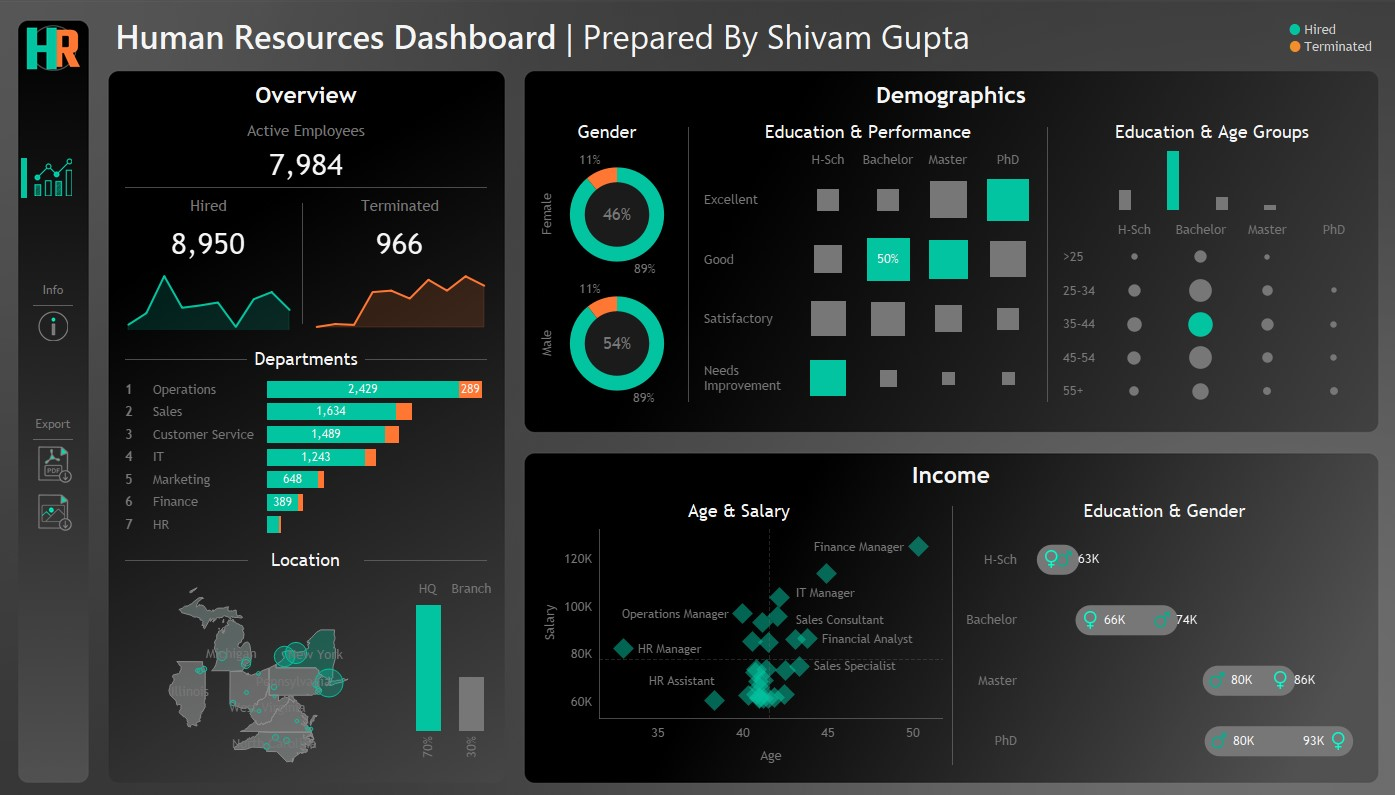

This screenshot's page, from the dashboard's own definition file:
{"tool":"tableau","page":{"name":"HR | Summary","canvas":[1400,800],"ordinal":0},"visuals":[{"type":"image","param":"Image/background dashbaord summary.png","box":[0,0,1400,800]},{"type":"blank","box":[90,0,1309,240]},{"type":"text","box":[110,0,1025,70]},{"type":"blank","box":[1135,0,245,70]},{"type":"filter","title":"Gender vs Education Level","param":"[federated.1uy6vyf0tya8w3119f4041qdymfc].[none:Gender:nk]","box":[750,9,142,51]},{"type":"filter","title":"Gender vs Education Level","param":"[federated.1uy6vyf0tya8w3119f4041qdymfc].[none:Calculation_2981664453132697602:n","box":[892,9,142,51]},{"type":"filter","title":"Gender vs Education Level","param":"[federated.1uy6vyf0tya8w3119f4041qdymfc].[none:Calculation_3363625995846344715:n","box":[1034,9,142,51]},{"type":"filter","title":"Gender vs Education Level","param":"[federated.1uy6vyf0tya8w3119f4041qdymfc].[yr:Hiredate:ok]","box":[1176,9,142,51]},{"type":"text","box":[1288,10,114,59]},{"type":"image","param":"Image/Logo.png","box":[20,20,70,55]},{"type":"text","box":[117,77,382,35]},{"type":"text","box":[533,77,840,35]},{"type":"blank","box":[30,85,50,73.3]},{"type":"text","box":[117,112,382,32]},{"type":"text","box":[533,117,152,29]},{"type":"blank","box":[690,117,1,295]},{"type":"text","box":[696,117,348,29]},{"type":"blank","box":[1049,117,1,295]},{"type":"text","box":[1055,117,318,29]},{"type":"worksheet","title":"BAN Active","mark":"Text","box":[117,144,382,43]},{"type":"worksheet","title":"Gender","mark":"Pie","rows":["Gender"],"cols":["Calculation_3363625995853570061","Calculation_3363625995853570061"],"box":[533,146,152,266]},{"type":"worksheet","title":"Education vs Performance","mark":"Square","rows":["Performance Rating"],"cols":["Education Level"],"box":[696,146,348,266]},{"type":"worksheet","title":"Education Levels","mark":"Bar","rows":["Calculation_3363625995831468034"],"cols":["Education Level"],"box":[1055,146,318,70]},{"type":"blank","box":[23,158,6,40]},{"type":"dashboard-object","box":[30,158.3,50,38]},{"type":"blank","box":[117,187,382,1]},{"type":"text","box":[117,193,187,26]},{"type":"blank","box":[304,193,1,141]},{"type":"text","box":[305,193,193.9,26]},{"type":"blank","box":[30,196.3,50,10]},{"type":"blank","box":[30,206.3,50,73.3]},{"type":"worksheet","title":"Age vs Education","mark":"Circle","rows":["Calculation_3363625995862552598"],"cols":["Education Level"],"box":[1055,216,318,196]},{"type":"worksheet","title":"BAN Hired","mark":"Text","box":[117,219,187,49]},{"type":"worksheet","title":"BAN Terminated","mark":"Text","box":[305,219,193.9,49]},{"type":"text","box":[90,240,1309,320]},{"type":"worksheet","title":"Hired By Year","mark":"Line","rows":["Calculation_3363625995831468034","Calculation_3363625995831468034"],"cols":["Hiredate"],"box":[117,268,187,66]},{"type":"worksheet","title":"Terminated By Year","mark":"Line","rows":["Calculation_3363625995832086533","Calculation_3363625995832086533"],"cols":["Termdate"],"box":[305,268,193.9,66]},{"type":"text","box":[30,279.7,50,20]},{"type":"blank","box":[30,299.7,50,11]},{"type":"dashboard-object","box":[30,310.7,50,30]},{"type":"blank","box":[30,340.7,50,73.3]},{"type":"blank","box":[127,344,122,30]},{"type":"text","box":[249,344,118,30]},{"type":"blank","box":[367,344,122,30]},{"type":"worksheet","title":"Departments","mark":"Bar","rows":["Calculation_3363625995844042762","Department"],"cols":["Calculation_3363625995831468034"],"box":[117,374,382,166]},{"type":"text","box":[30,414,50,20]},{"type":"blank","box":[30,434,50,11]},{"type":"dashboard-object","box":[30,445,50,38]},{"type":"text","box":[533,459,840,32]},{"type":"blank","box":[30,483,50,10]},{"type":"dashboard-object","box":[30,493,50,38]},{"type":"text","box":[533,496,416.5,29]},{"type":"blank","box":[954.5,496,1,279]},{"type":"text","box":[960.5,496,412.5,29]},{"type":"worksheet","title":"Age vs Salary","mark":"Shape","rows":["Salary"],"cols":["Calculation_3363625995860541454"],"box":[533,525,416.5,250]},{"type":"worksheet","title":"Gender vs Education Level","mark":"Square","rows":["Education Level"],"cols":["Salary","Salary"],"box":[960.5,525,412.5,250]},{"type":"blank","box":[30,531,50,60]},{"type":"blank","box":[127,545,123.3,30]},{"type":"text","box":[250.3,545,115.3,30]},{"type":"blank","box":[365.6,545,123.3,30]},{"type":"blank","box":[90,560,1309,240]},{"type":"worksheet","title":"Map States","mark":"Automatic","box":[117,575,287,200]},{"type":"worksheet","title":"Location","mark":"Bar","rows":["Calculation_3363625995831468034"],"cols":["Calculation_3363625995846344715","Calculation1"],"box":[404,575,95,200]}]}

Visuals, with their boxes in screenshot pixels (x1, y1, x2, y2), scaled from the page's 1400x800 canvas onto the 1395x795 screenshot:
image: pyautogui.locateOnScreen(0, 0, 1394, 794)
blank: pyautogui.locateOnScreen(90, 0, 1394, 238)
text: pyautogui.locateOnScreen(110, 0, 1131, 70)
blank: pyautogui.locateOnScreen(1131, 0, 1375, 70)
"Gender vs Education Level" filter: pyautogui.locateOnScreen(747, 9, 889, 60)
"Gender vs Education Level" filter: pyautogui.locateOnScreen(889, 9, 1030, 60)
"Gender vs Education Level" filter: pyautogui.locateOnScreen(1030, 9, 1172, 60)
"Gender vs Education Level" filter: pyautogui.locateOnScreen(1172, 9, 1313, 60)
text: pyautogui.locateOnScreen(1283, 10, 1394, 69)
image: pyautogui.locateOnScreen(20, 20, 90, 75)
text: pyautogui.locateOnScreen(117, 77, 497, 111)
text: pyautogui.locateOnScreen(531, 77, 1368, 111)
blank: pyautogui.locateOnScreen(30, 84, 80, 157)
text: pyautogui.locateOnScreen(117, 111, 497, 143)
text: pyautogui.locateOnScreen(531, 116, 683, 145)
blank: pyautogui.locateOnScreen(688, 116, 689, 409)
text: pyautogui.locateOnScreen(694, 116, 1040, 145)
blank: pyautogui.locateOnScreen(1045, 116, 1046, 409)
text: pyautogui.locateOnScreen(1051, 116, 1368, 145)
"BAN Active" worksheet (Text marks): pyautogui.locateOnScreen(117, 143, 497, 186)
"Gender" worksheet (Pie marks): pyautogui.locateOnScreen(531, 145, 683, 409)
"Education vs Performance" worksheet (Square marks): pyautogui.locateOnScreen(694, 145, 1040, 409)
"Education Levels" worksheet (Bar marks): pyautogui.locateOnScreen(1051, 145, 1368, 215)
blank: pyautogui.locateOnScreen(23, 157, 29, 197)
dashboard-object: pyautogui.locateOnScreen(30, 157, 80, 195)
blank: pyautogui.locateOnScreen(117, 186, 497, 187)
text: pyautogui.locateOnScreen(117, 192, 303, 218)
blank: pyautogui.locateOnScreen(303, 192, 304, 332)
text: pyautogui.locateOnScreen(304, 192, 497, 218)
blank: pyautogui.locateOnScreen(30, 195, 80, 205)
blank: pyautogui.locateOnScreen(30, 205, 80, 278)
"Age vs Education" worksheet (Circle marks): pyautogui.locateOnScreen(1051, 215, 1368, 409)
"BAN Hired" worksheet (Text marks): pyautogui.locateOnScreen(117, 218, 303, 266)
"BAN Terminated" worksheet (Text marks): pyautogui.locateOnScreen(304, 218, 497, 266)
text: pyautogui.locateOnScreen(90, 238, 1394, 556)
"Hired By Year" worksheet (Line marks): pyautogui.locateOnScreen(117, 266, 303, 332)
"Terminated By Year" worksheet (Line marks): pyautogui.locateOnScreen(304, 266, 497, 332)
text: pyautogui.locateOnScreen(30, 278, 80, 298)
blank: pyautogui.locateOnScreen(30, 298, 80, 309)
dashboard-object: pyautogui.locateOnScreen(30, 309, 80, 339)
blank: pyautogui.locateOnScreen(30, 339, 80, 411)
blank: pyautogui.locateOnScreen(127, 342, 248, 372)
text: pyautogui.locateOnScreen(248, 342, 366, 372)
blank: pyautogui.locateOnScreen(366, 342, 487, 372)
"Departments" worksheet (Bar marks): pyautogui.locateOnScreen(117, 372, 497, 537)
text: pyautogui.locateOnScreen(30, 411, 80, 431)
blank: pyautogui.locateOnScreen(30, 431, 80, 442)
dashboard-object: pyautogui.locateOnScreen(30, 442, 80, 480)
text: pyautogui.locateOnScreen(531, 456, 1368, 488)
blank: pyautogui.locateOnScreen(30, 480, 80, 490)
dashboard-object: pyautogui.locateOnScreen(30, 490, 80, 528)
text: pyautogui.locateOnScreen(531, 493, 946, 522)
blank: pyautogui.locateOnScreen(951, 493, 952, 770)
text: pyautogui.locateOnScreen(957, 493, 1368, 522)
"Age vs Salary" worksheet (Shape marks): pyautogui.locateOnScreen(531, 522, 946, 770)
"Gender vs Education Level" worksheet (Square marks): pyautogui.locateOnScreen(957, 522, 1368, 770)
blank: pyautogui.locateOnScreen(30, 528, 80, 587)
blank: pyautogui.locateOnScreen(127, 542, 249, 571)
text: pyautogui.locateOnScreen(249, 542, 364, 571)
blank: pyautogui.locateOnScreen(364, 542, 487, 571)
blank: pyautogui.locateOnScreen(90, 556, 1394, 794)
"Map States" worksheet: pyautogui.locateOnScreen(117, 571, 403, 770)
"Location" worksheet (Bar marks): pyautogui.locateOnScreen(403, 571, 497, 770)
